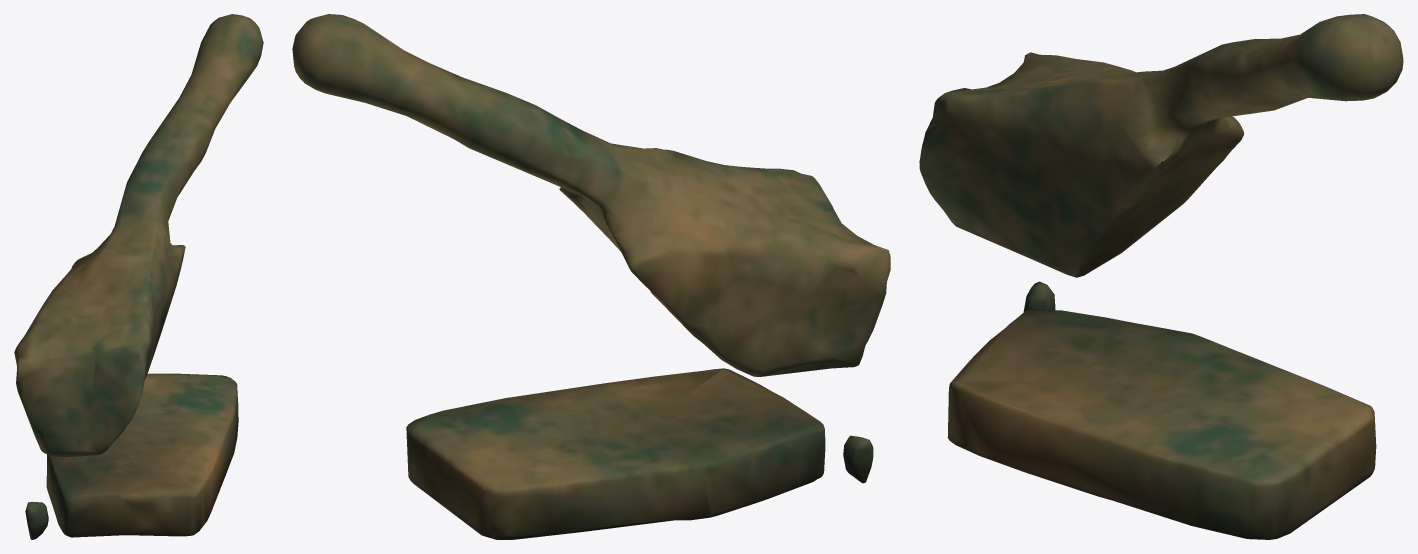
File: chipped-bronze-anvil-v001.glb
3 renders of one model, left to right at view 1: azimuth 30°, elevation 25°; view 2: azimuth 150°, elevation 25°; view 3: azimuth 270°, elevation 25°, orthographic. The views are drawn at different scales.
Visible parts, largest first — view 1: chipped-bronze-anvil; view 2: chipped-bronze-anvil; view 3: chipped-bronze-anvil.
Boxes of the visible parts, left/top/right/bottom form: chipped-bronze-anvil: left=14, top=14, right=263, bottom=539; chipped-bronze-anvil: left=292, top=14, right=890, bottom=539; chipped-bronze-anvil: left=919, top=14, right=1403, bottom=539.
Bounding box in the file's own units: 0.6739 × 0.6899 × 0.5432.
Materials: 1 (1 with a texture image).
